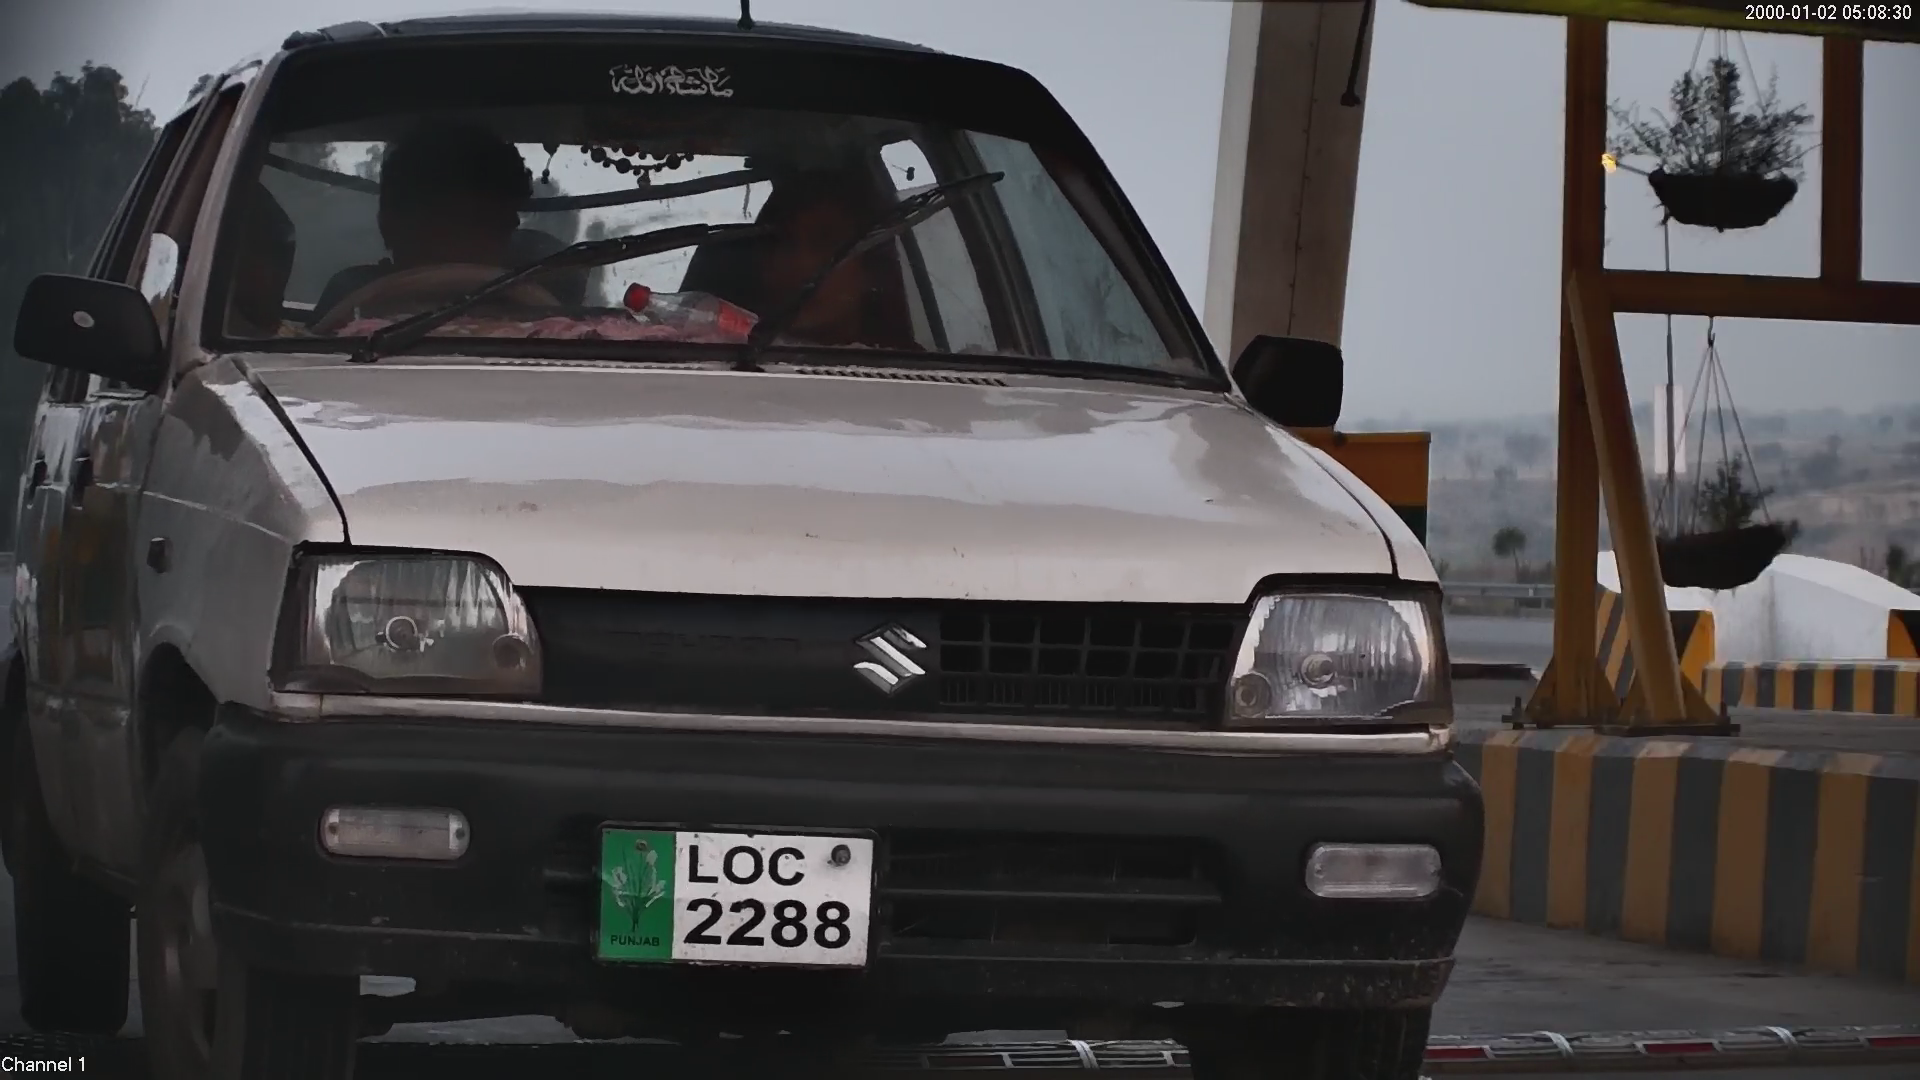Number_Plate: (587, 807, 884, 981)
